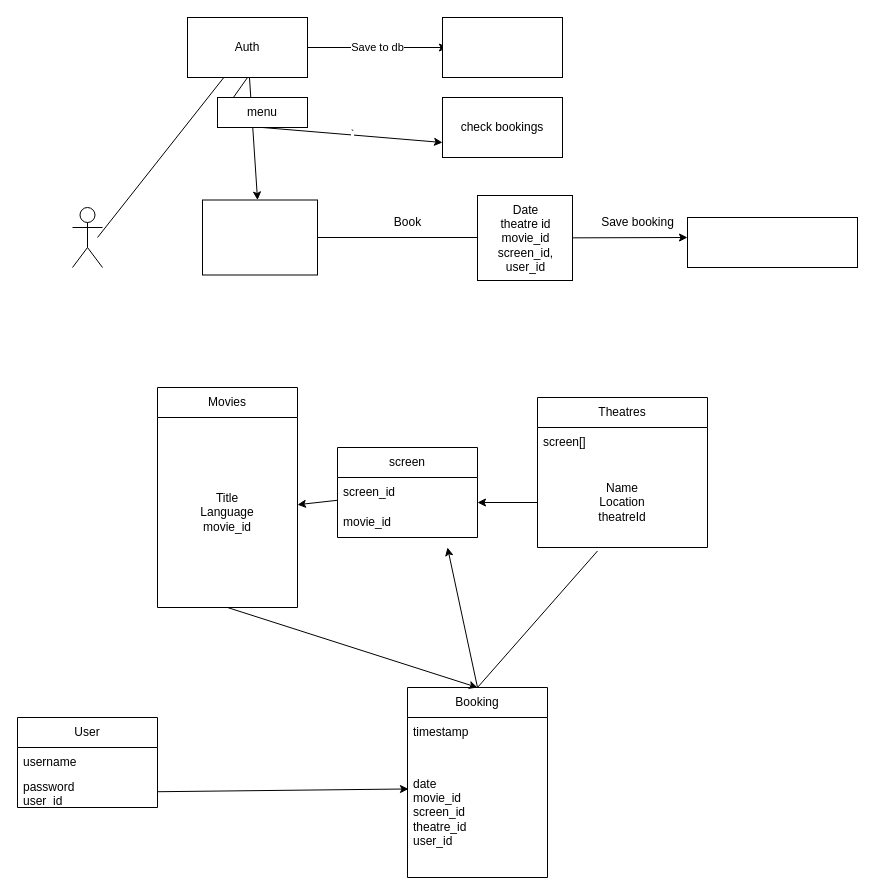
Some shapes in this 875 by 895 pixel diagram are drawn without their labels. The shapes that lost their labels are listed below. From the top down, each one's box as (x1, y1, x2, y2) in pixels, then its label:
(442, 16, 562, 78): MySQL
(72, 206, 102, 268): Actor
(202, 199, 318, 275): Listed movies
(686, 216, 858, 268): return booking saved
